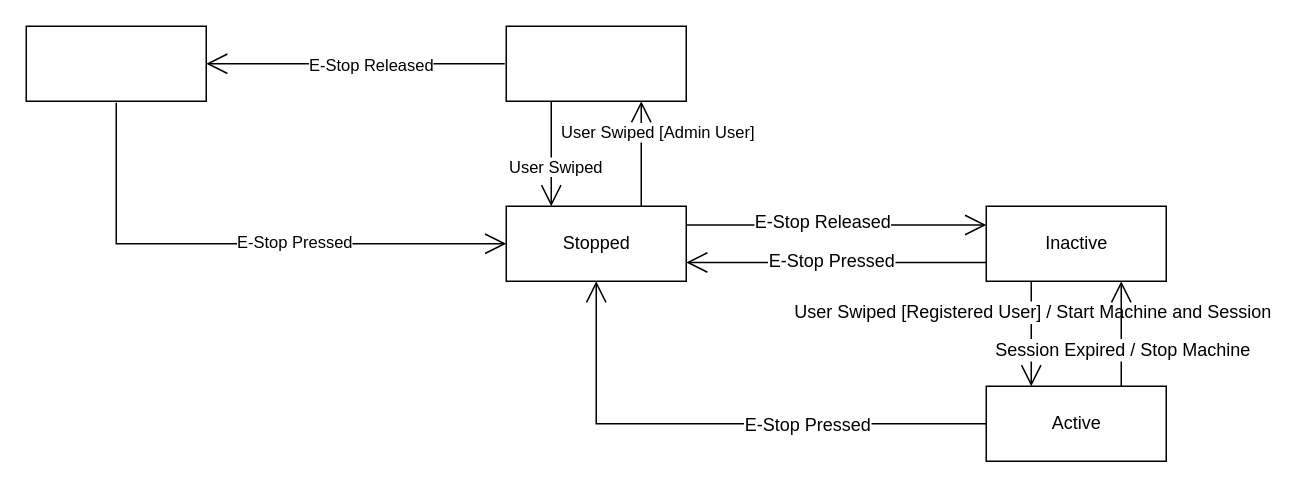
Some shapes in this 1296 by 488 pixel diagram are drawn without their labels. Each missing label, with the centre of its shape:
Toggle Access Type: point (115, 63)
Toggle Access Type Prompt: point (595, 63)
